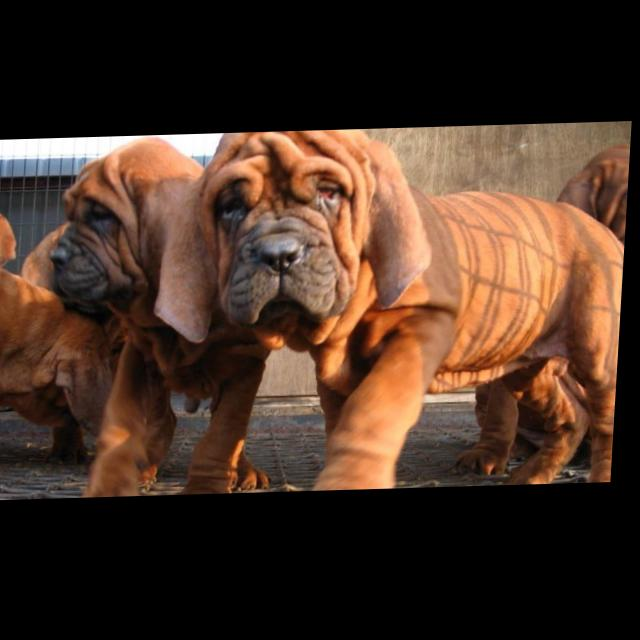dogue_de_bordeaux: (184, 126, 635, 497), (16, 134, 295, 501), (460, 147, 633, 491)
